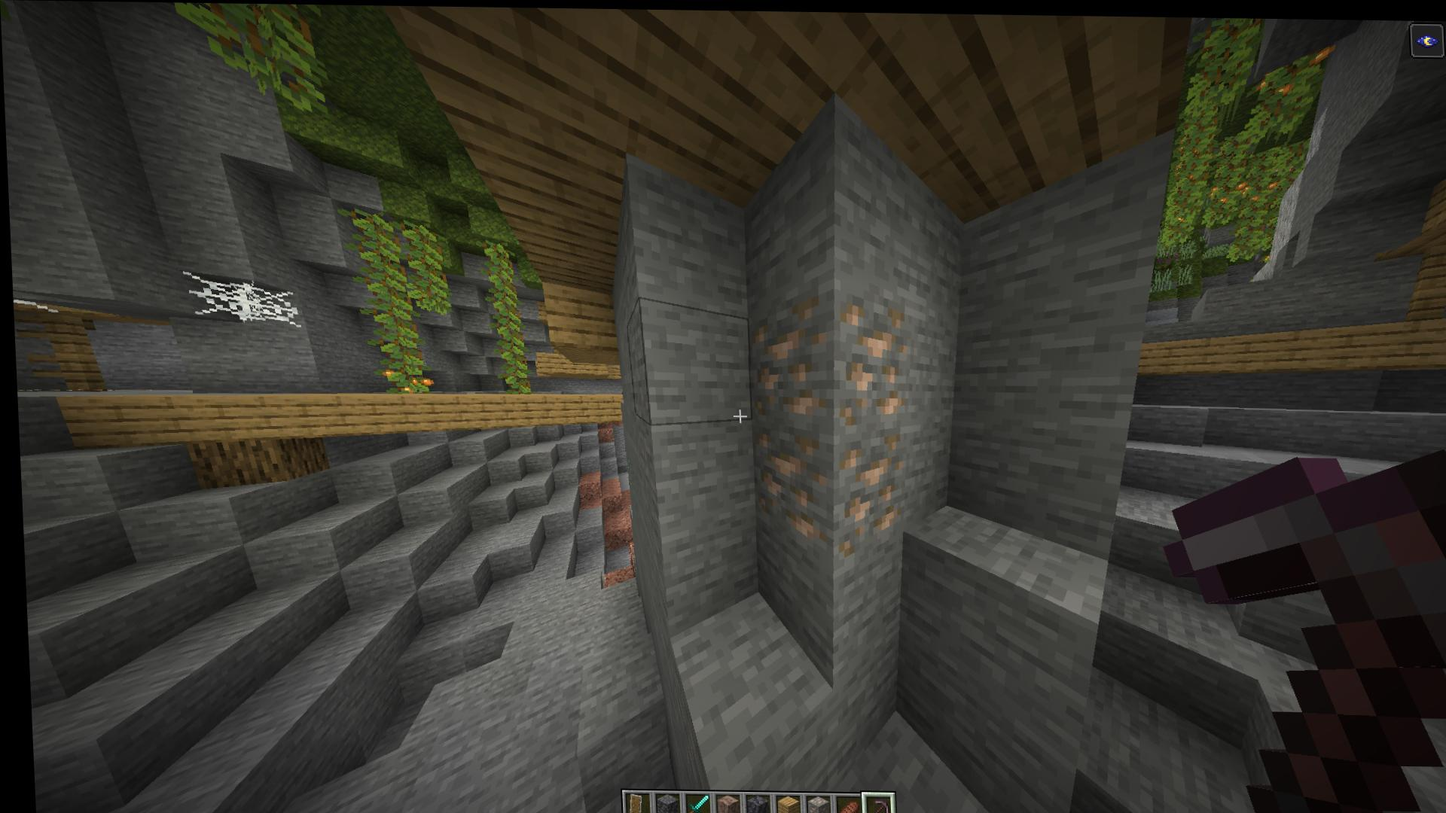iron ore: (743, 421, 909, 552), (747, 293, 907, 427)
